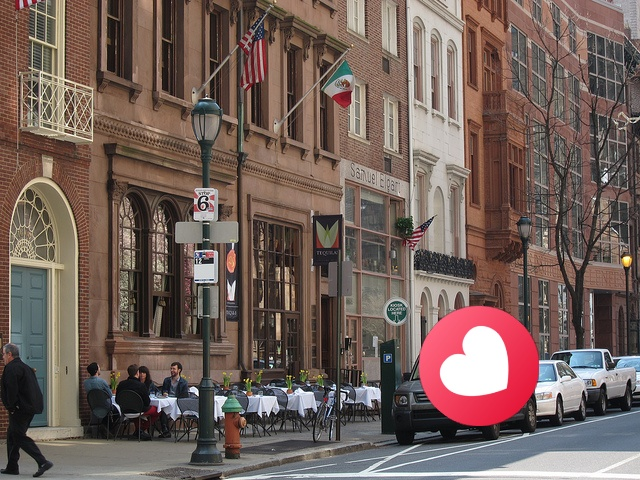love: (419, 306, 539, 426)
